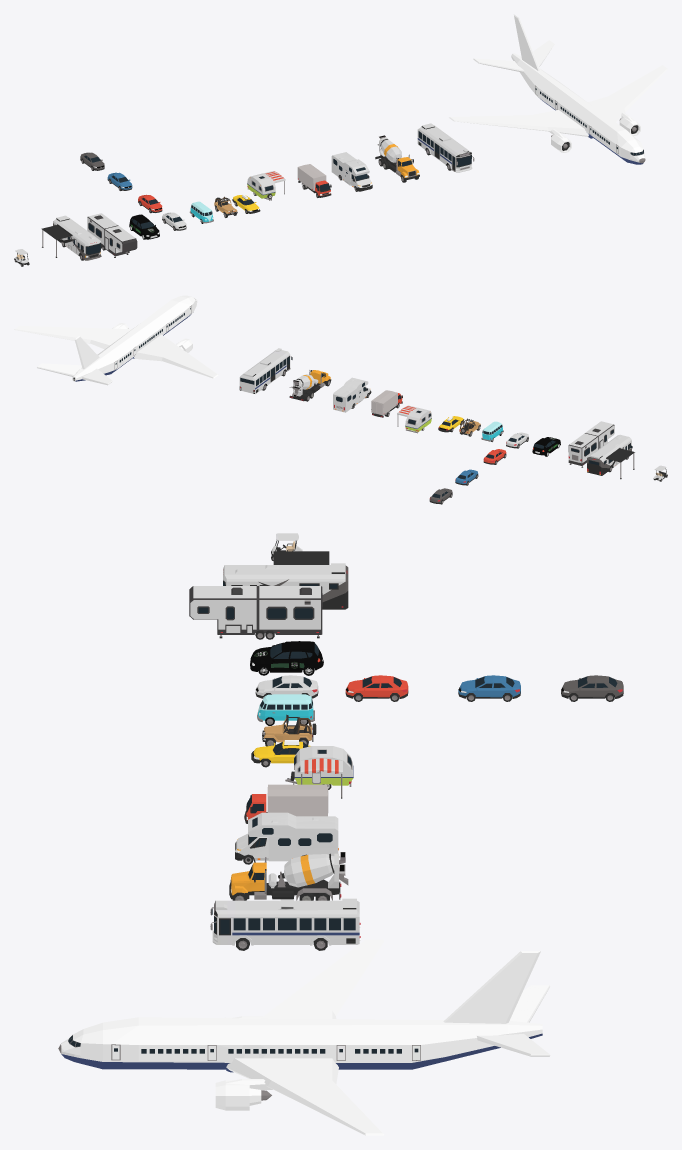
The model's file is vehicles.glb.
The picture shows the model from 3 angles, top to bottom: view 1: azimuth 30°, elevation 25°; view 2: azimuth 150°, elevation 25°; view 3: azimuth 270°, elevation 25°; orthographic projection. The views are drawn at different scales.
Visible parts, largest first — view 1: plane-passenger, city-bus, car-camper-bus-standing, car-caravan-big-standing, camping-van, cement-truck, truck, camper, patrol-car; view 2: plane-passenger, city-bus, car-camper-bus-standing, car-caravan-big-standing, camping-van, cement-truck, camper, truck, patrol-car; view 3: plane-passenger, city-bus, car-caravan-big-standing, camping-van, cement-truck, car-camper-bus-standing, truck, camper, patrol-car, hippie-van, car-sedan-red, car-sedan-gray (+4 smaller).
Part boxes in pixels (x1,y1,x2,y2): plane-passenger: (449, 14, 667, 164); city-bus: (417, 123, 474, 172); car-camper-bus-standing: (41, 215, 101, 260); car-caravan-big-standing: (87, 213, 137, 257); camping-van: (331, 152, 372, 191); cement-truck: (375, 135, 419, 182); truck: (297, 164, 331, 197); camper: (247, 171, 285, 200); patrol-car: (129, 214, 159, 239); plane-passenger: (14, 295, 218, 385); city-bus: (239, 348, 292, 394); car-camper-bus-standing: (587, 434, 634, 479); car-caravan-big-standing: (568, 421, 614, 467); camping-van: (333, 377, 371, 412); cement-truck: (289, 370, 331, 401); camper: (397, 405, 431, 433); truck: (371, 390, 402, 417); patrol-car: (532, 437, 560, 456); plane-passenger: (58, 939, 550, 1135); city-bus: (210, 898, 360, 950); car-caravan-big-standing: (189, 586, 322, 639); camping-van: (235, 812, 338, 864); cement-truck: (229, 852, 348, 900); car-camper-bus-standing: (223, 551, 348, 609); truck: (244, 784, 328, 823); camper: (285, 746, 353, 798); patrol-car: (250, 641, 323, 675); hippie-van: (257, 694, 314, 725); car-sedan-red: (345, 675, 408, 701); car-sedan-gray: (561, 675, 623, 701).
Bounding box in the file's own units: 109 × 10.42 × 42.51.
2 materials, 2 textured.
